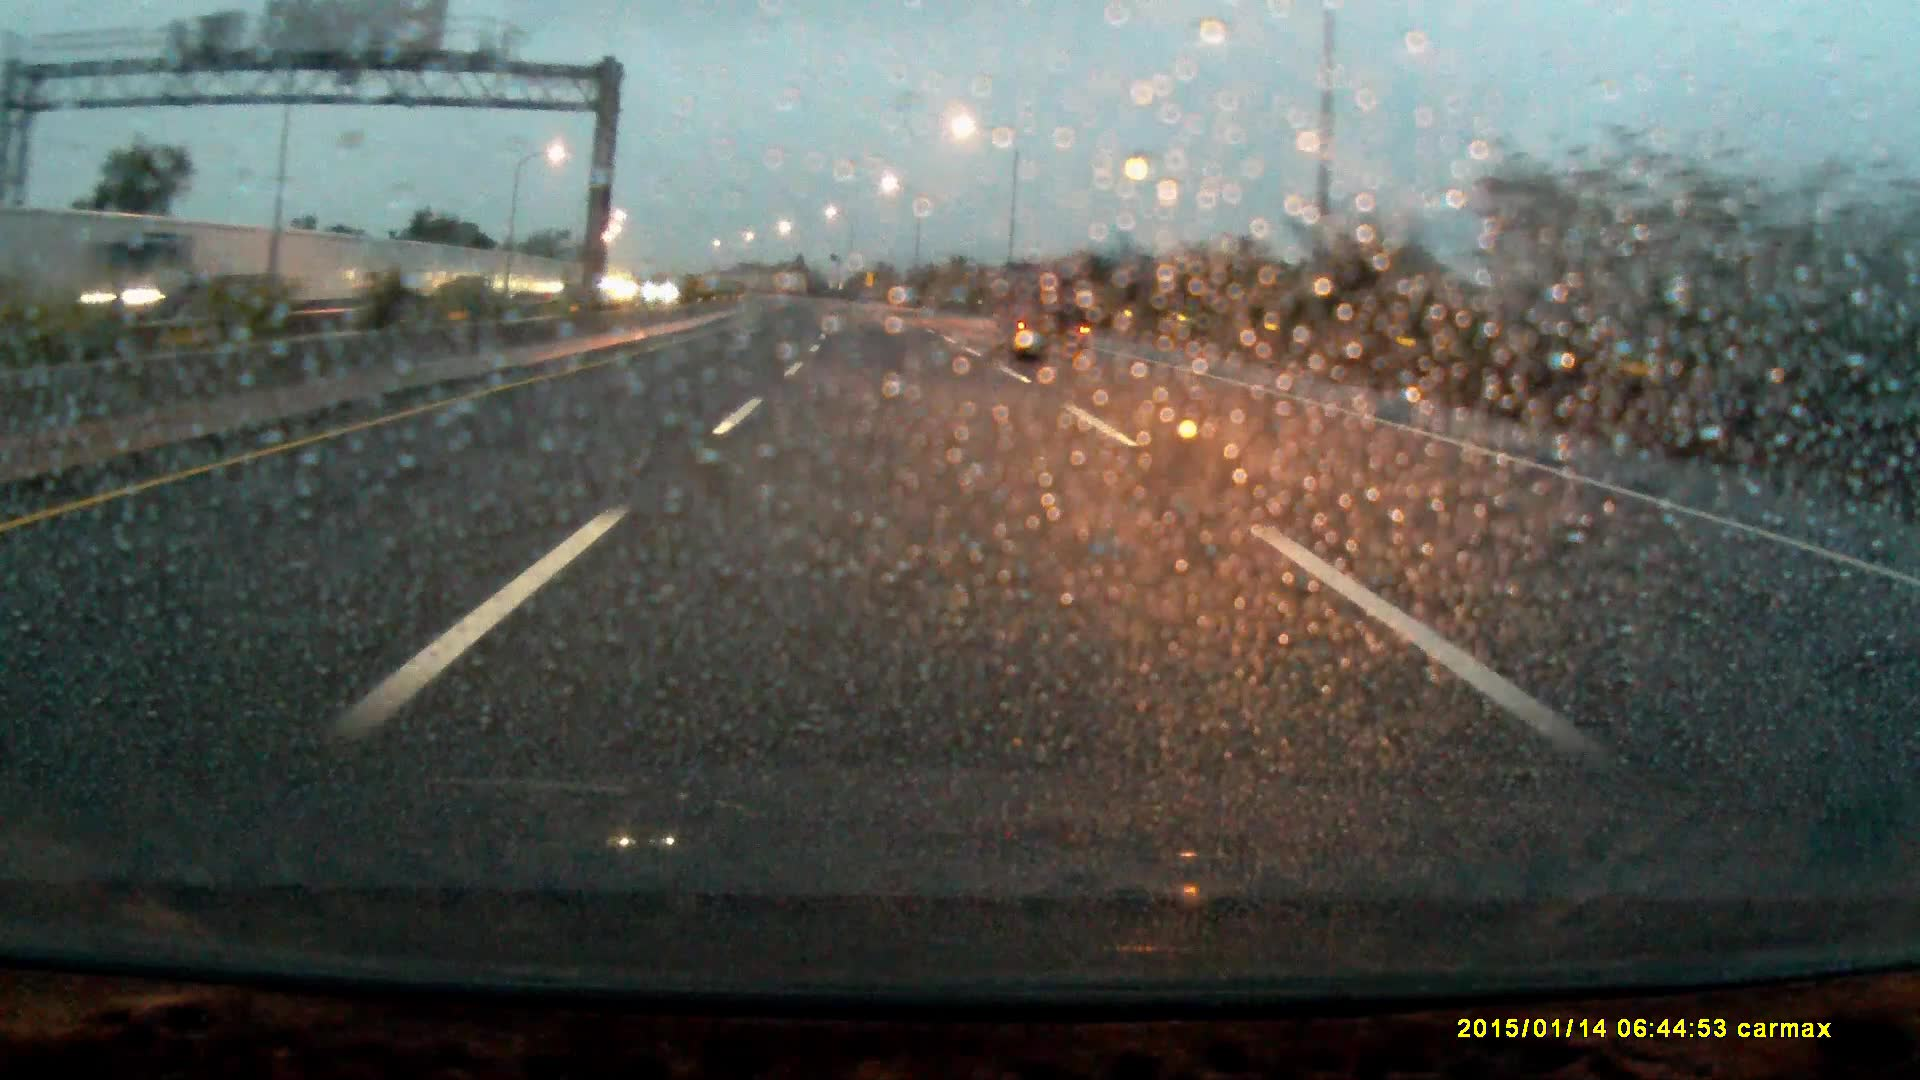vehicle: (65, 232, 269, 324), (1004, 276, 1092, 368)
